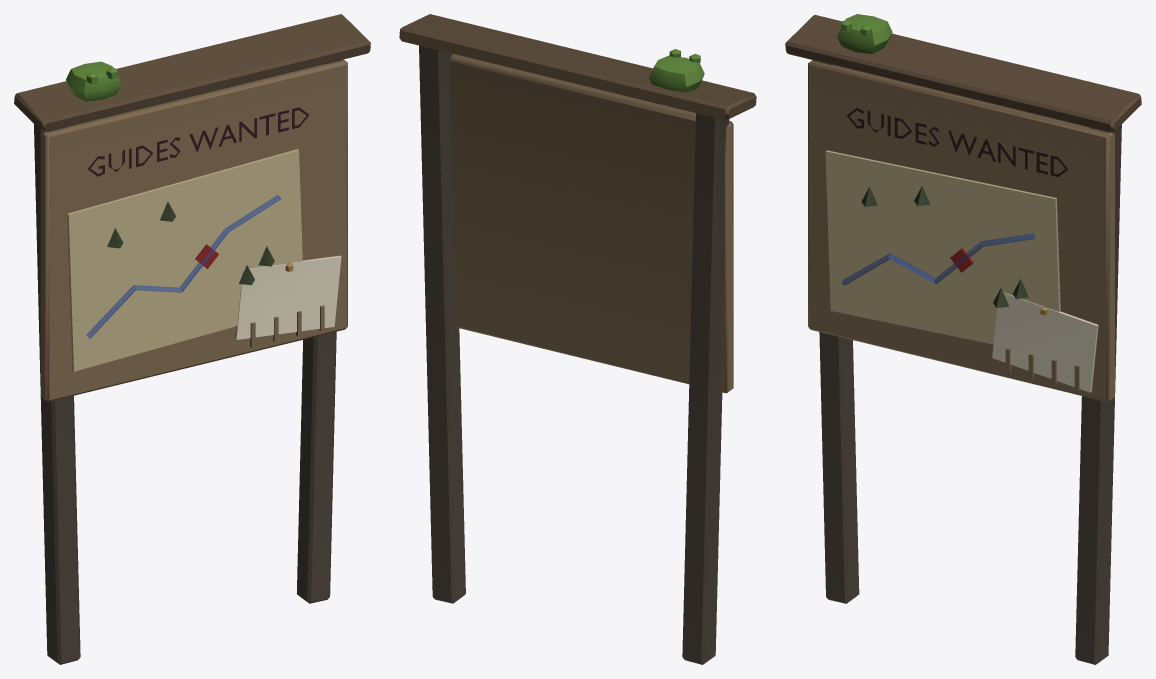
The model's file is board_swampguide.glb.
3 renders of one model, left to right at view 1: azimuth 30°, elevation 25°; view 2: azimuth 150°, elevation 25°; view 3: azimuth 330°, elevation 25°, orthographic.
Parts seen in each view (by area): view 1: board_swampguide; view 2: board_swampguide; view 3: board_swampguide.
Boxes of the visible parts, box(x1,y1,x2,y2) form: board_swampguide: box(14, 14, 370, 664); board_swampguide: box(399, 14, 756, 664); board_swampguide: box(785, 14, 1141, 664).
Size of the model in its own units: 1 by 1.72 by 0.1618.
